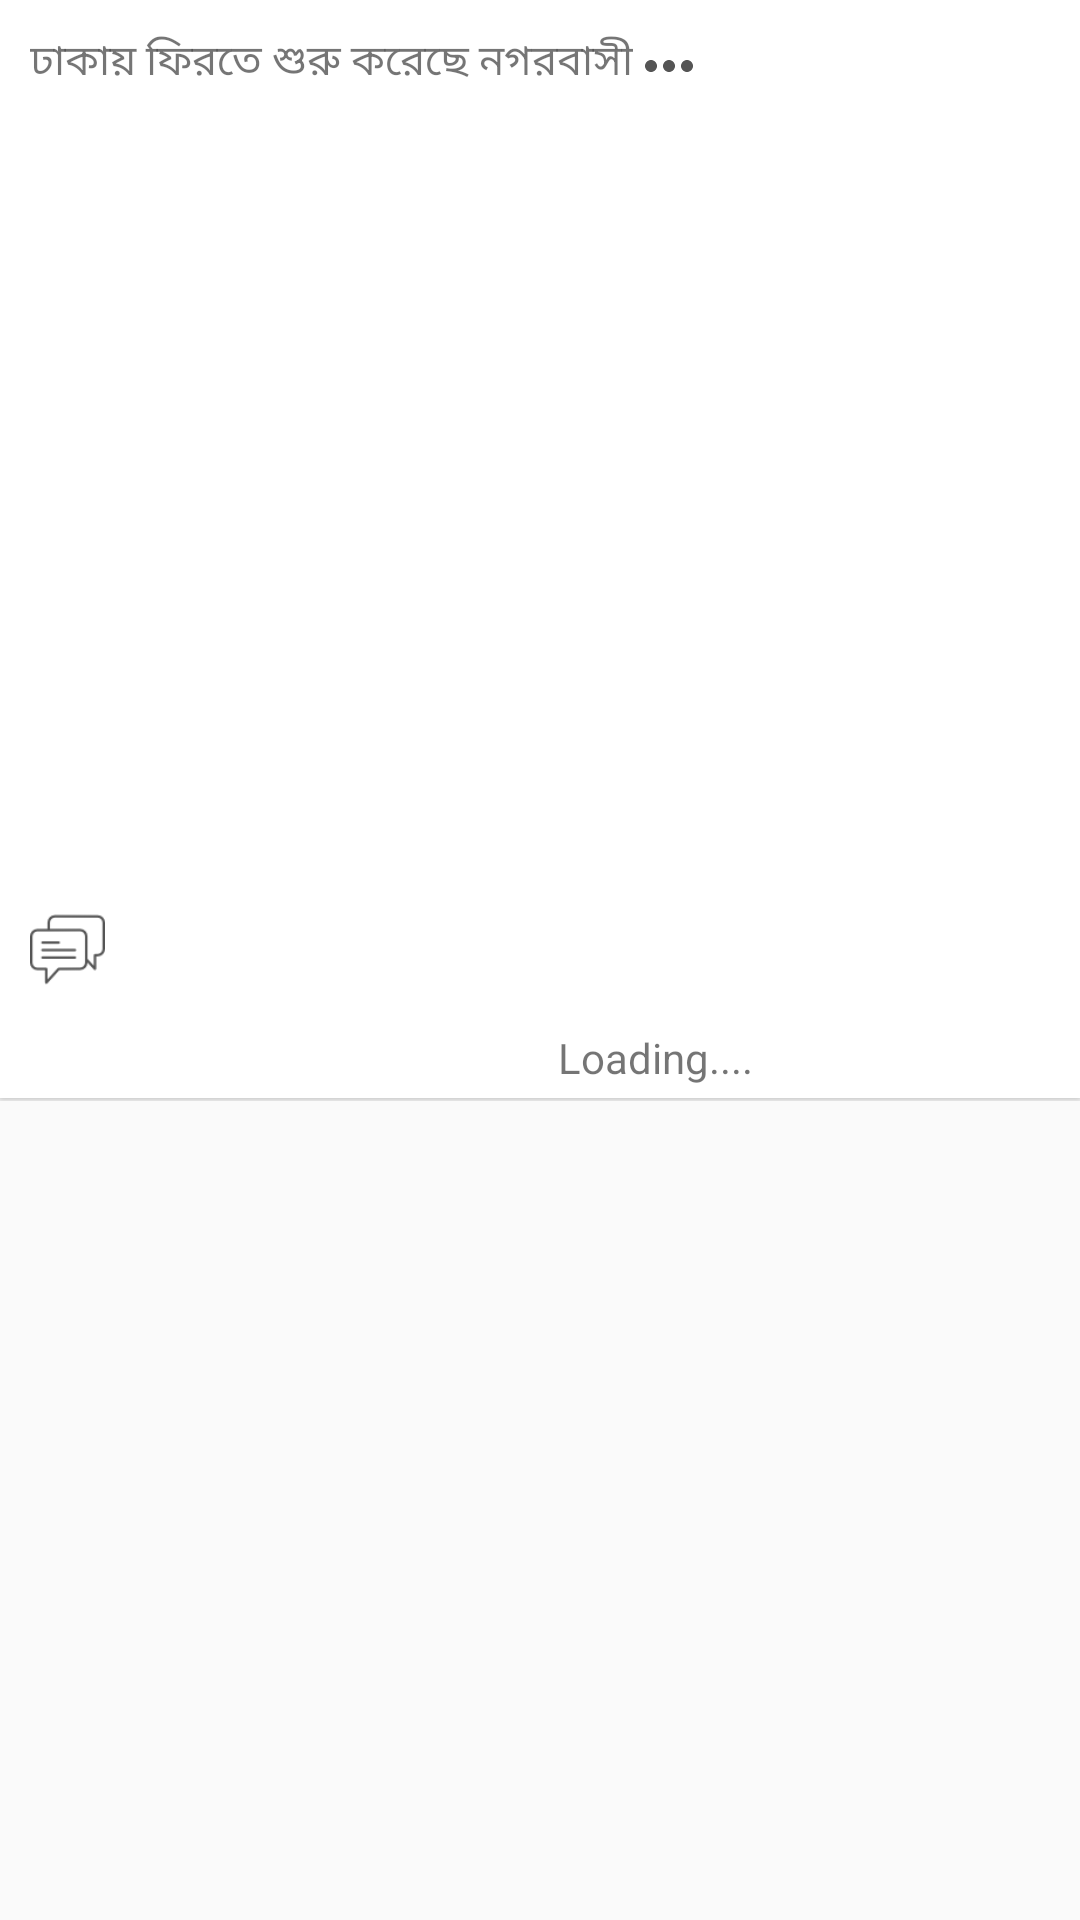

Icons on this 1080*1920 Android screen, each with its box as (x1, y1, x2, y2):
comment: (30, 914, 105, 984)
more horiz: (645, 60, 693, 72)
